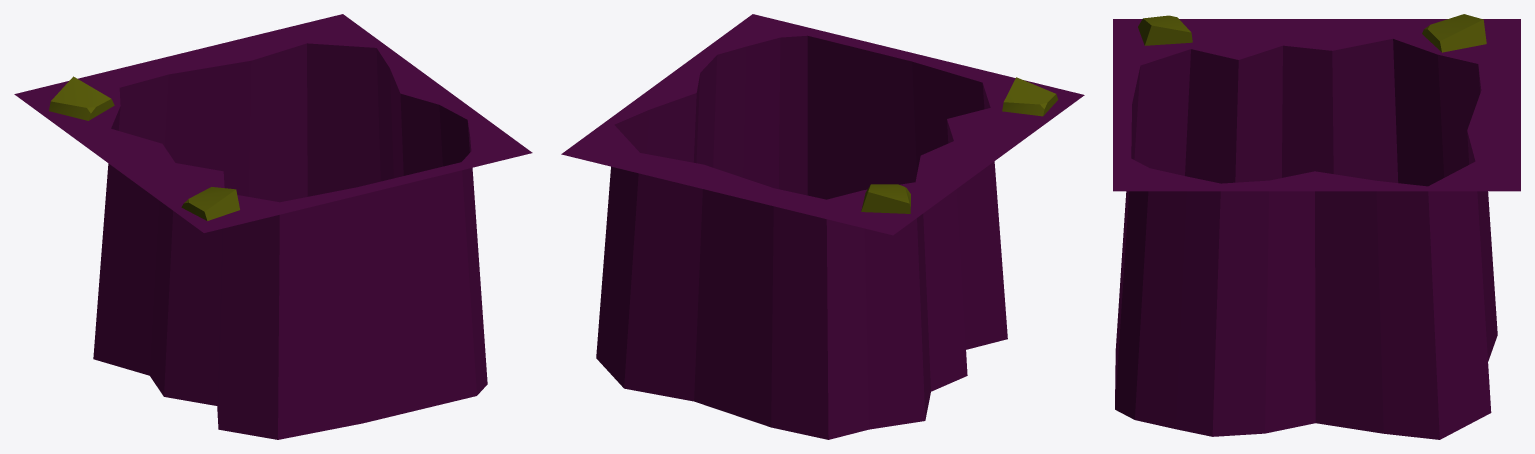
Rendered from Crevasse_2.fbx.
The picture shows the model from 3 angles, left to right: view 1: azimuth 30°, elevation 25°; view 2: azimuth 150°, elevation 25°; view 3: azimuth 270°, elevation 25°; orthographic projection. The views are drawn at different scales.
Visible parts, largest first — view 1: Crevasse2; view 2: Crevasse2; view 3: Crevasse2.
Boxes of the visible parts, x1,y1,x2,y2 form: Crevasse2: (14, 14, 532, 439); Crevasse2: (561, 14, 1084, 439); Crevasse2: (1113, 14, 1520, 439).
Bounding box in the file's own units: 252 × 182 × 250.
